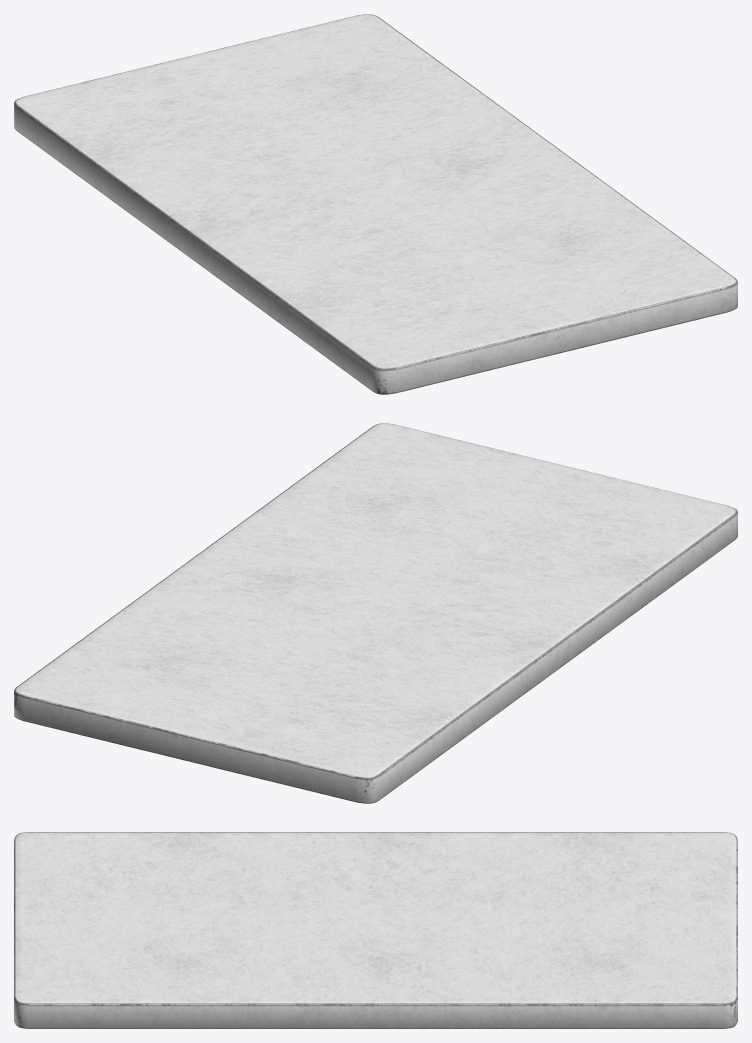
Rendered from tablon.obj.
3 views of the same model, one above another, from view 1: azimuth 30°, elevation 25°; view 2: azimuth 150°, elevation 25°; view 3: azimuth 270°, elevation 25° (orthographic). The views are drawn at different scales.
Visible parts, largest first — view 1: Tablon; view 2: Tablon; view 3: Tablon.
Part boxes in pixels (x1,y1,x2,y2): Tablon: (14,14,737,394); Tablon: (14,423,737,803); Tablon: (14,832,737,1028).
Size of the model in its own units: 1.35 by 0.0907 by 2.39.
Materials: 1 (1 with a texture image).
